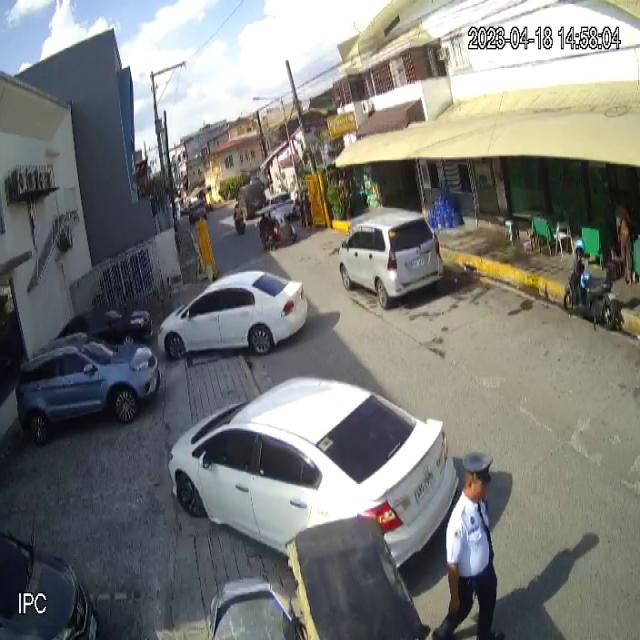Car: (170, 376, 460, 571), (15, 331, 161, 449), (156, 270, 310, 361), (337, 207, 447, 311)
Motorcycle: (562, 261, 622, 335)
